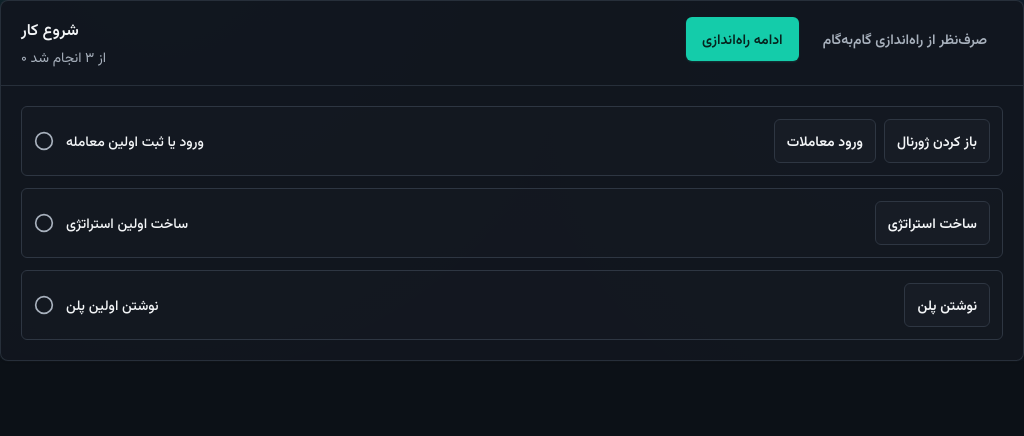
Scenario: SetupChecklist on the Persian page › says a failed dismissal in Persian
Expected: the heading "شروع کار" is shown, [21, 18, 79, 40]
«رد کردن» reads as "reject": the card says "forgo", like the flow's own skip wording.
What coordinates should you click on to do the following:
click the button "صرف‌نظر از راه‌اندازی گام‌به‌گام"
I would click on:
 (905, 39)
Its box is [807, 17, 1003, 61].
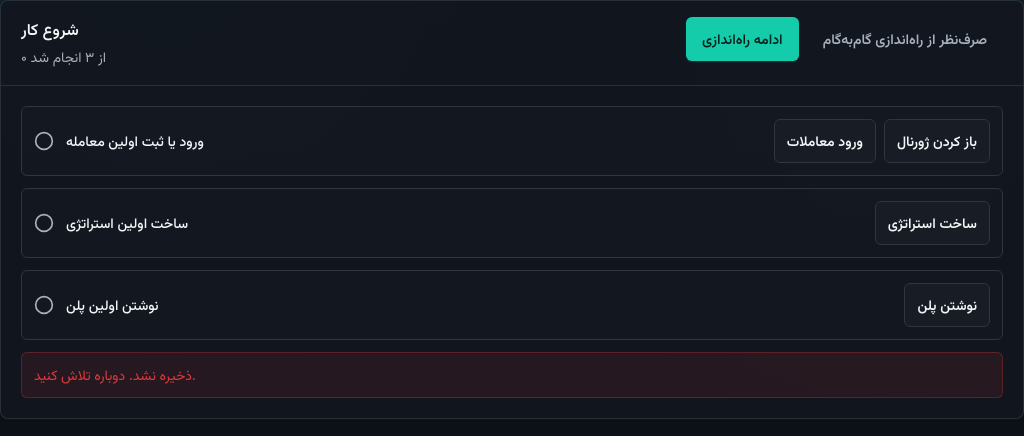
Expected: the message reads "ذخیره نشد. دوباره تلاش کنید.", [34, 365, 196, 384]
